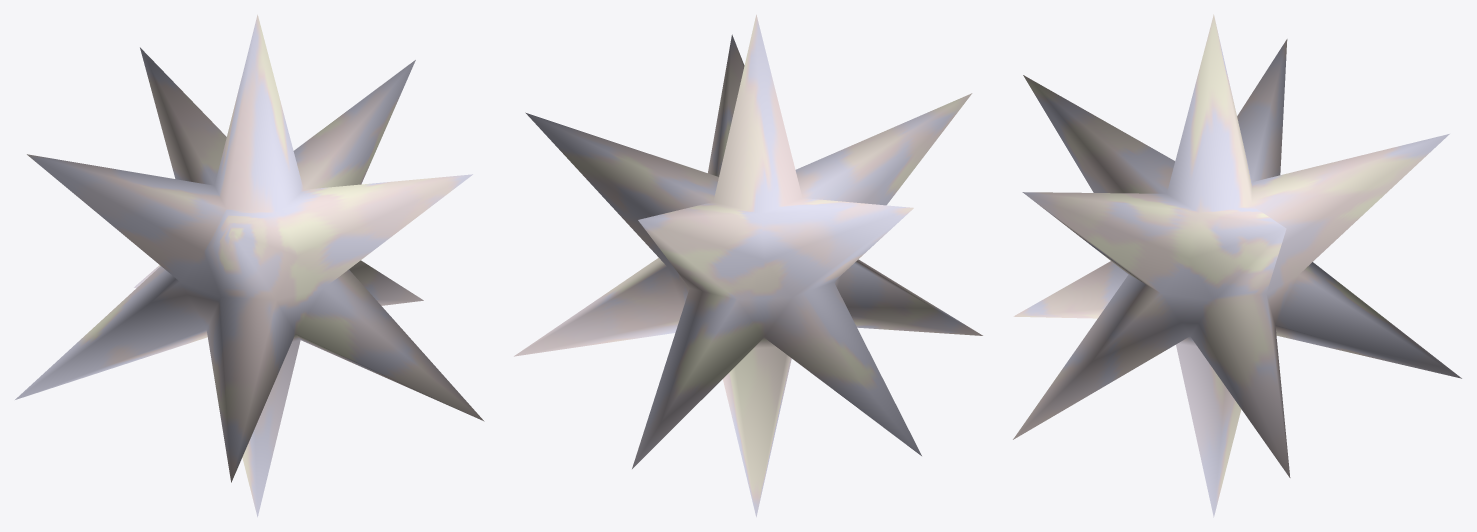
File: Spark_001.glb
3 views of the same model, side by side, from view 1: azimuth 30°, elevation 25°; view 2: azimuth 150°, elevation 25°; view 3: azimuth 270°, elevation 25° (orthographic).
Visible parts, largest first — view 1: 001; view 2: 001; view 3: 001.
Part boxes in pixels (x1=…): 001: x1=15, y1=14, x2=484, y2=517; 001: x1=514, y1=14, x2=982, y2=517; 001: x1=1013, y1=14, x2=1461, y2=517.
Size of the model in its own units: 0.6293 by 0.7398 by 0.5988.
Materials: 1 (1 with a texture image).
